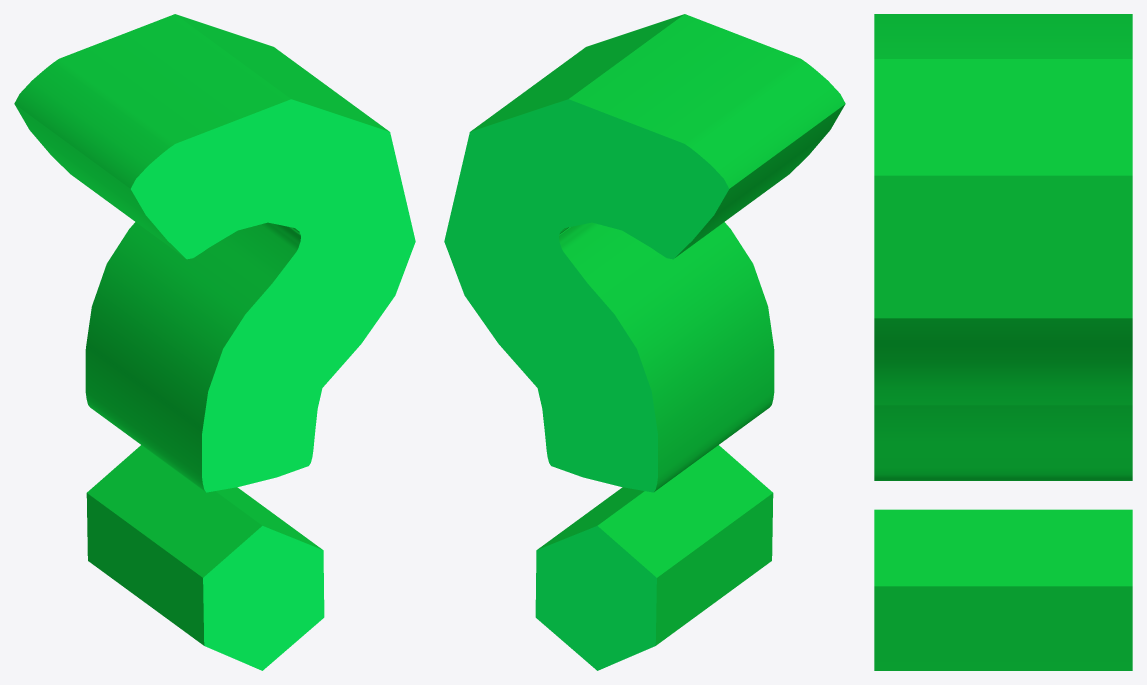
The model's file is 03254f08-a957-49be-896b-8c9d294fdc54.glb.
The picture shows the model from 3 angles, left to right: view 1: azimuth 30°, elevation 25°; view 2: azimuth 150°, elevation 25°; view 3: azimuth 270°, elevation 25°; orthographic projection. The views are drawn at different scales.
Visible parts, largest first — view 1: ?_Zyzol_Green; view 2: ?_Zyzol_Green; view 3: ?_Zyzol_Green.
Part boxes in pixels (box(x1,y1,x2,y2)): ?_Zyzol_Green: box(14, 14, 415, 670); ?_Zyzol_Green: box(444, 14, 845, 670); ?_Zyzol_Green: box(874, 14, 1132, 670).
Size of what is drawn, in the model's own units: 0.0637 by 0.1205 by 0.045.
2 materials, 2 textured.
